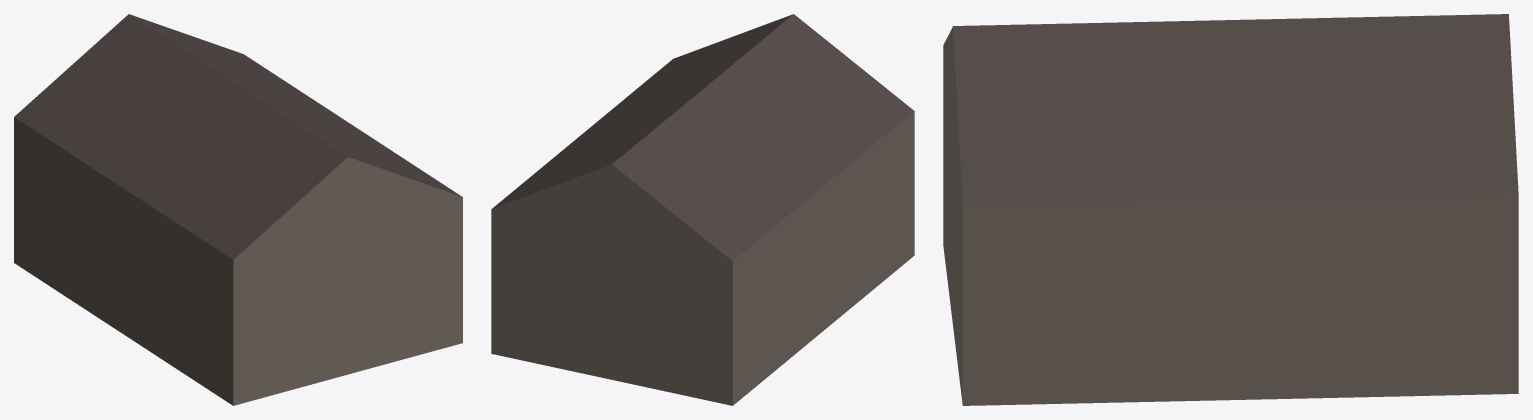
The picture shows the model from 3 angles, left to right: view 1: azimuth 30°, elevation 25°; view 2: azimuth 150°, elevation 25°; view 3: azimuth 270°, elevation 25°; orthographic projection. The views are drawn at different scales.
Visible parts, largest first — view 1: HP-w859078904; view 2: HP-w859078904; view 3: HP-w859078904.
Part boxes in pixels (left/top/right/bottom): HP-w859078904: left=14, top=14, right=462, bottom=405; HP-w859078904: left=491, top=14, right=914, bottom=405; HP-w859078904: left=943, top=14, right=1518, bottom=405.
Size of the model in its own units: 10.95 by 8.94 by 15.52.
